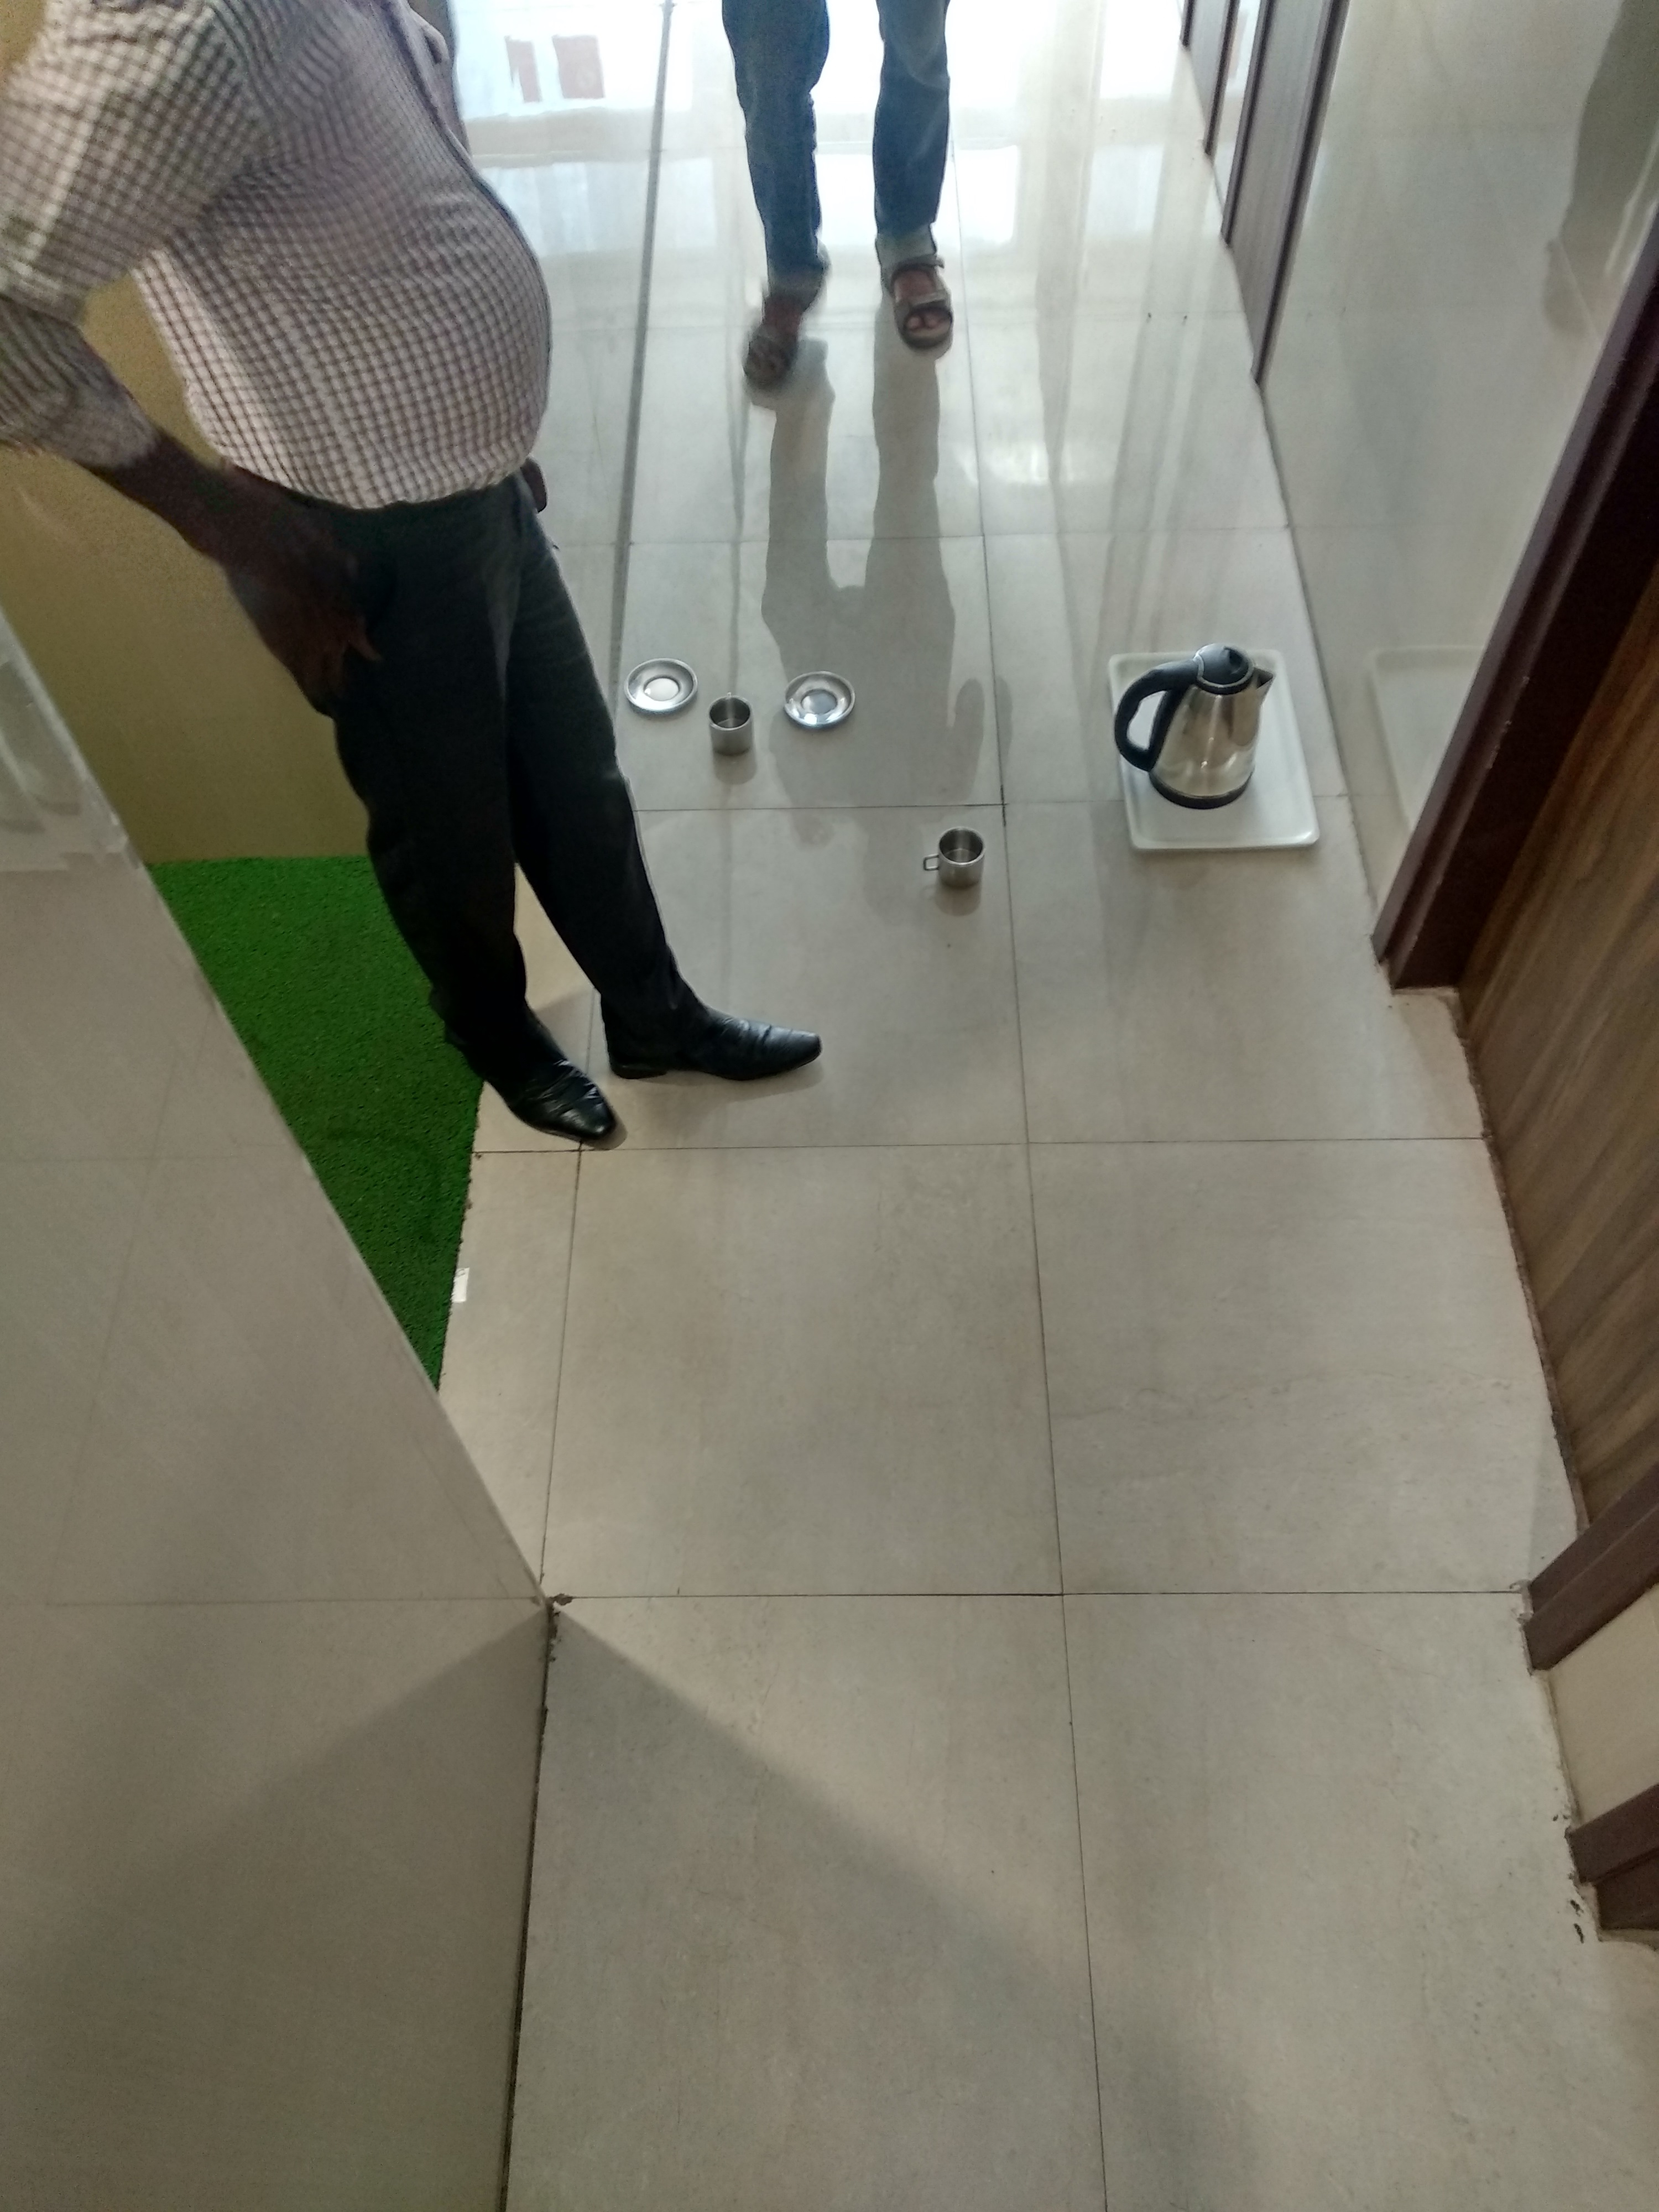CUP: (918, 827, 993, 895), (708, 697, 763, 756)
FLASK: (1141, 641, 1293, 820)
